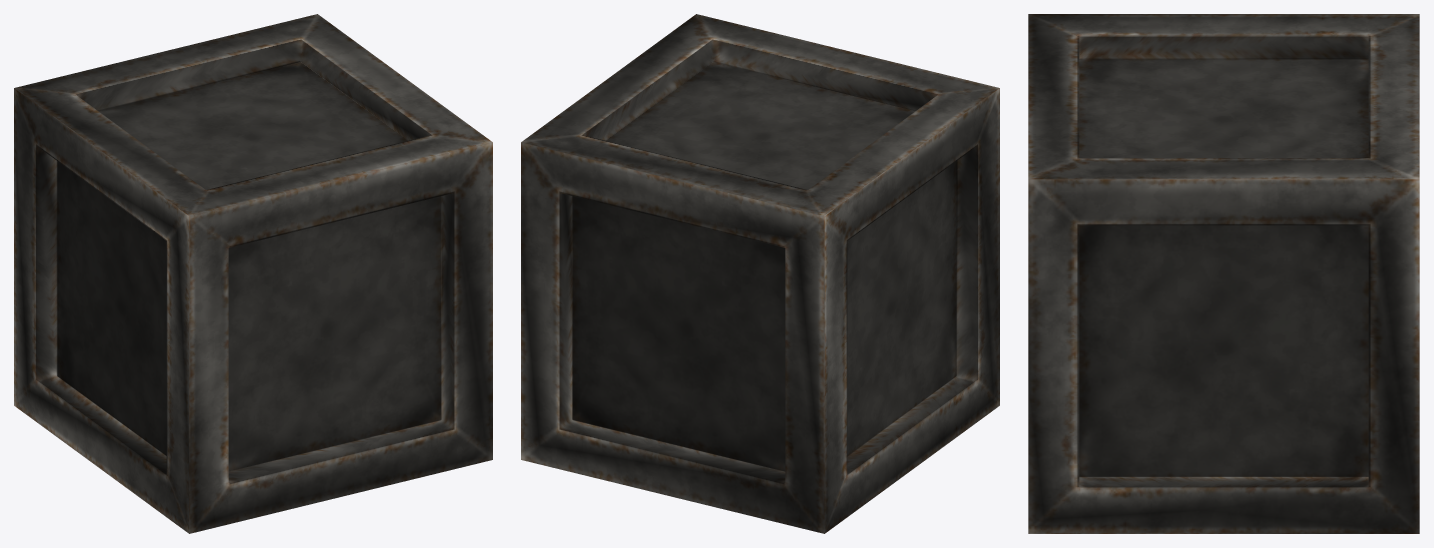
File: cratea2.gltf
3 renders of one model, left to right at view 1: azimuth 30°, elevation 25°; view 2: azimuth 150°, elevation 25°; view 3: azimuth 270°, elevation 25°, orthographic. The views are drawn at different scales.
Parts seen in each view (by area): view 1: cratea; view 2: cratea; view 3: cratea.
Part boxes in pixels (left/top/right/bottom): cratea: left=14, top=14, right=492, bottom=533; cratea: left=521, top=14, right=999, bottom=533; cratea: left=1028, top=14, right=1419, bottom=533.
Size of the model in its own units: 0.9995 by 0.9995 by 0.9995.
Materials: 1 (1 with a texture image).
